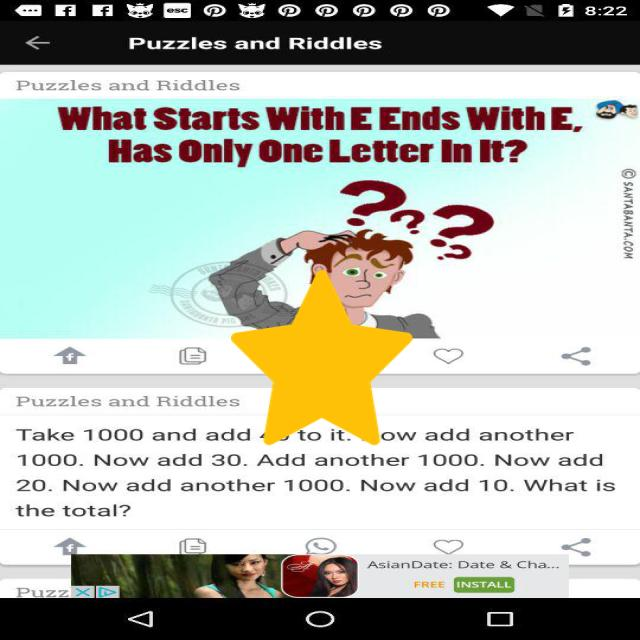forced continuity: (231, 270, 413, 445)
